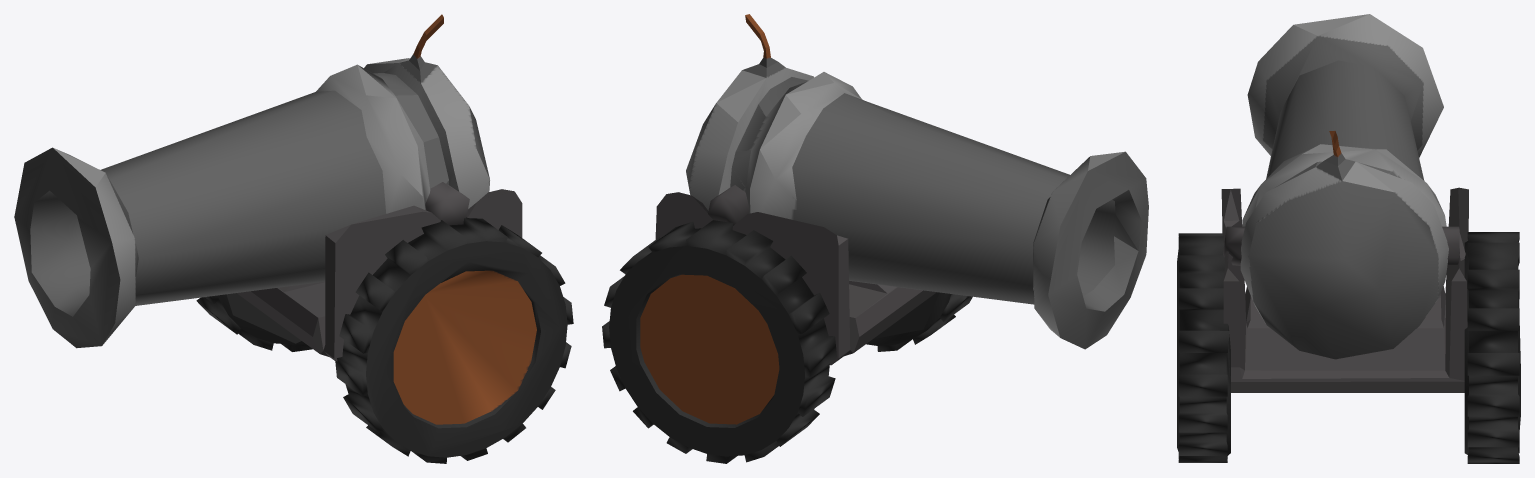
Rendered from Cannon.fbx.
The picture shows the model from 3 angles, left to right: view 1: azimuth 30°, elevation 25°; view 2: azimuth 150°, elevation 25°; view 3: azimuth 270°, elevation 25°; orthographic projection. The views are drawn at different scales.
Parts seen in each view (by area): view 1: Cylinder; view 2: Cylinder; view 3: Cylinder.
Part boxes in pixels (x1=…): Cylinder: x1=14, y1=14, x2=573, y2=463; Cylinder: x1=602, y1=14, x2=1148, y2=463; Cylinder: x1=1177, y1=14, x2=1520, y2=463.
Size of the model in its own units: 6.7 by 5.55 by 4.96.
1 material, 1 textured.
